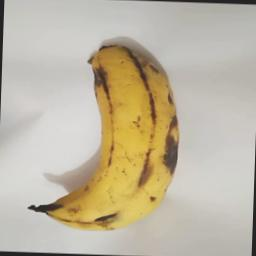Banana Unripe: (24, 40, 182, 232)
